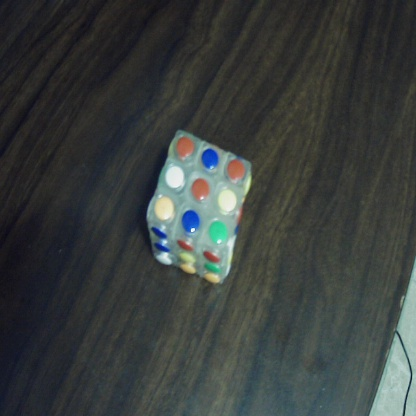Rubix Cube: (149, 131, 251, 286)
